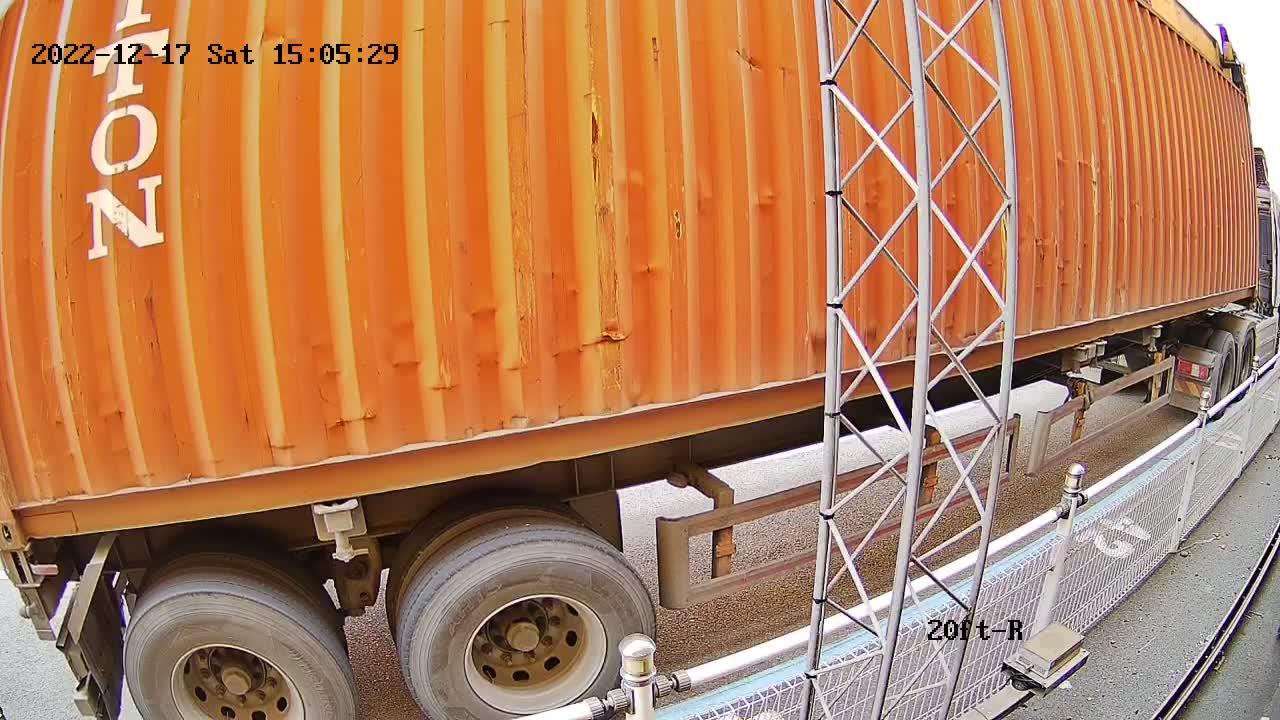Cone: (2, 550, 49, 590)
Hole_L: (1, 471, 66, 549)
Tire: (402, 543, 655, 718), (126, 594, 356, 717)
